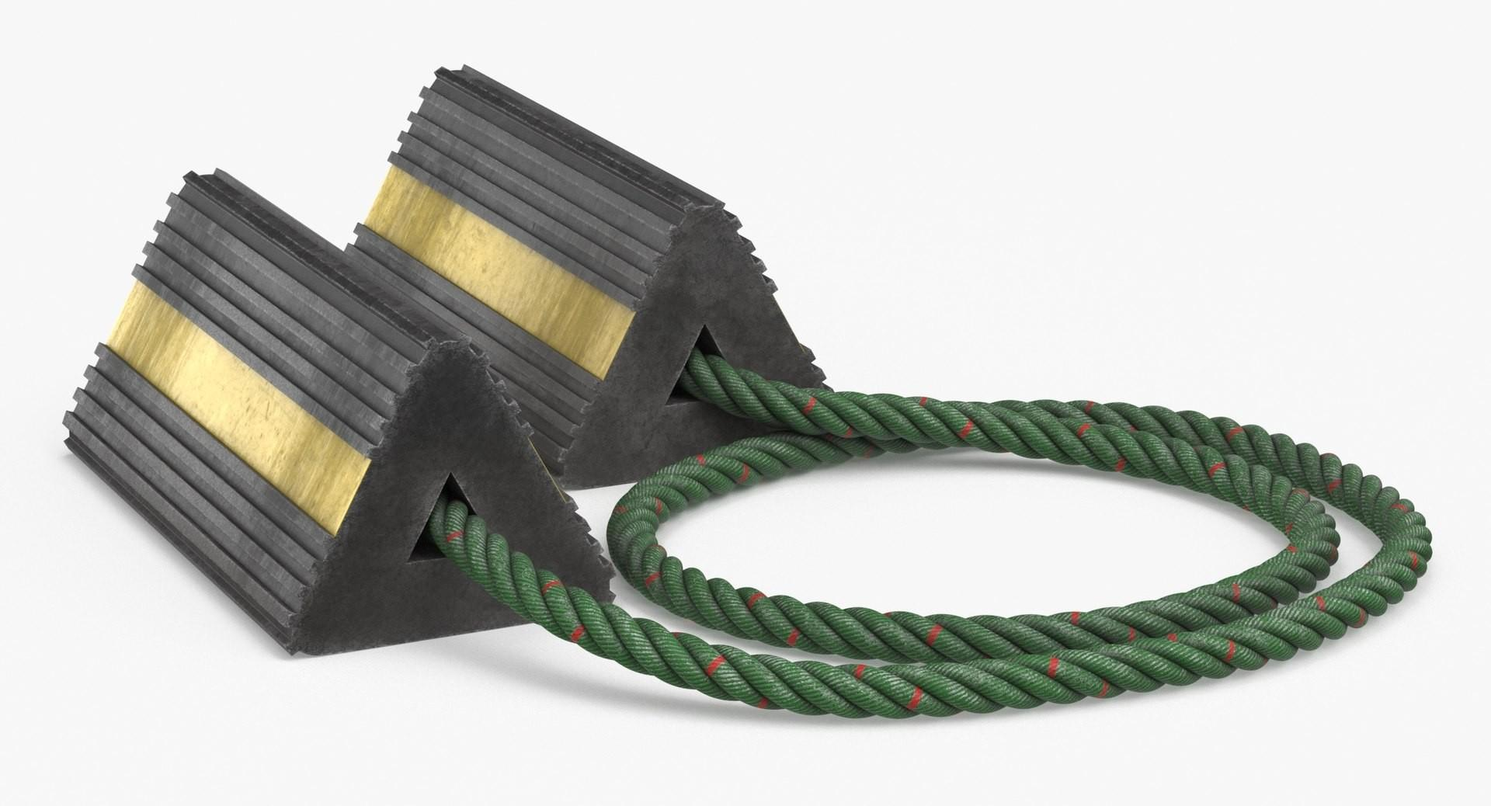chock: (59, 159, 616, 658), (343, 64, 852, 494)
